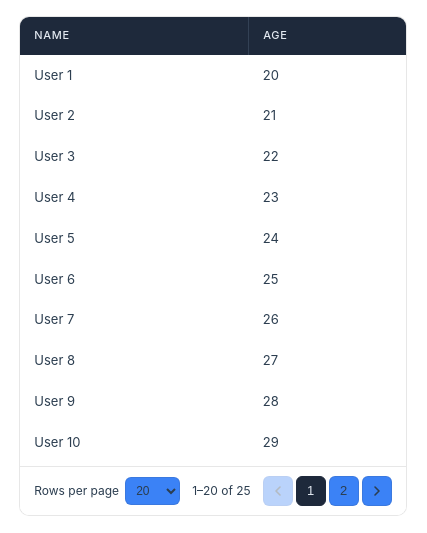
Test: BaseTable.vue › handles pagination next/prev buttons
Note: click next
Click the 4th button at (377, 491), box [362,476,392,506]
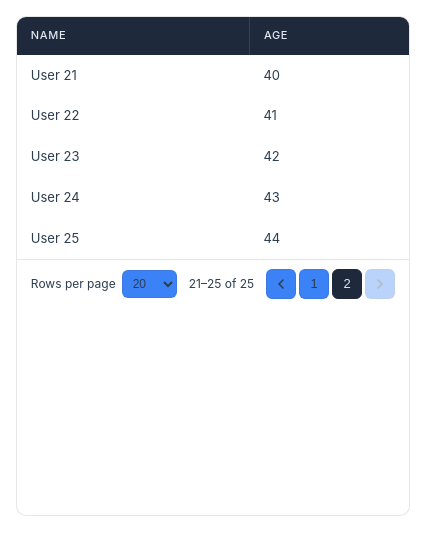
Now the text "21–25 of 25" is shown, box [189,274,254,293]
